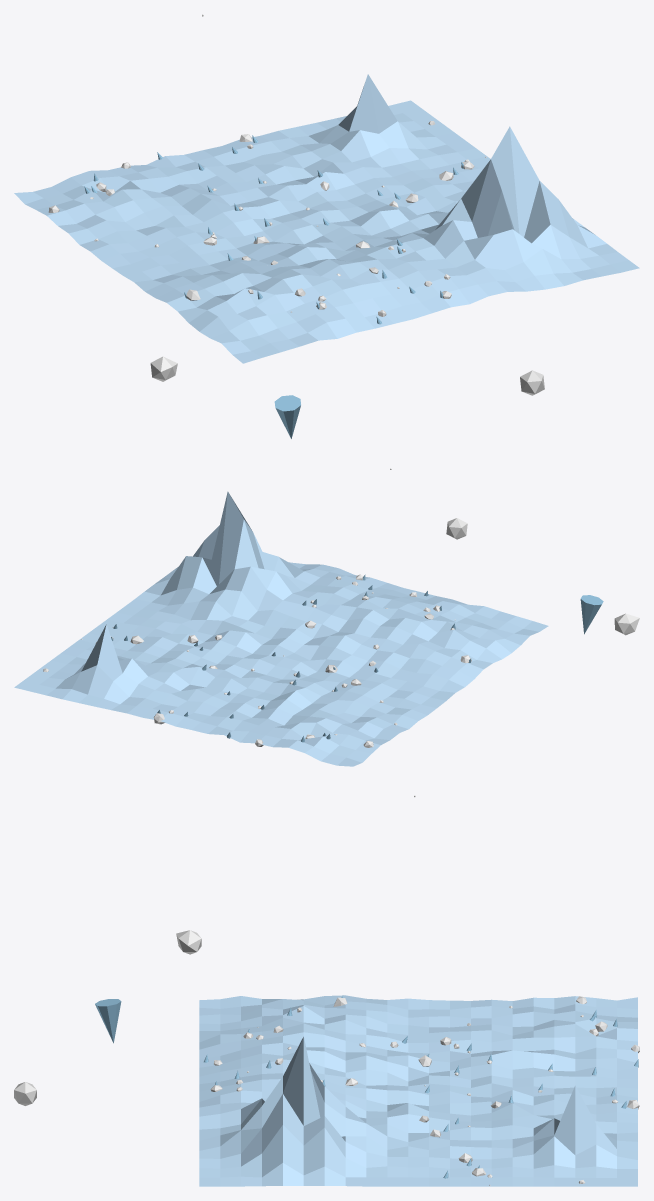
The model's file is lowpolyiceland.glb.
The picture shows the model from 3 angles, top to bottom: view 1: azimuth 30°, elevation 25°; view 2: azimuth 150°, elevation 25°; view 3: azimuth 270°, elevation 25°; orthographic projection. The views are drawn at different scales.
Visible parts, largest first — view 1: Plane, Cone; view 2: Plane, Cone; view 3: Plane, Cone.
Boxes of the visible parts, x1,y1,x2,y2 form: Plane: (14,74,639,363); Cone: (274,395,300,438); Plane: (14,491,548,766); Cone: (580,595,603,634); Plane: (199,995,637,1186); Cone: (95,999,121,1043).
Bounding box in the file's own units: 40.41 × 22.97 × 46.45.
